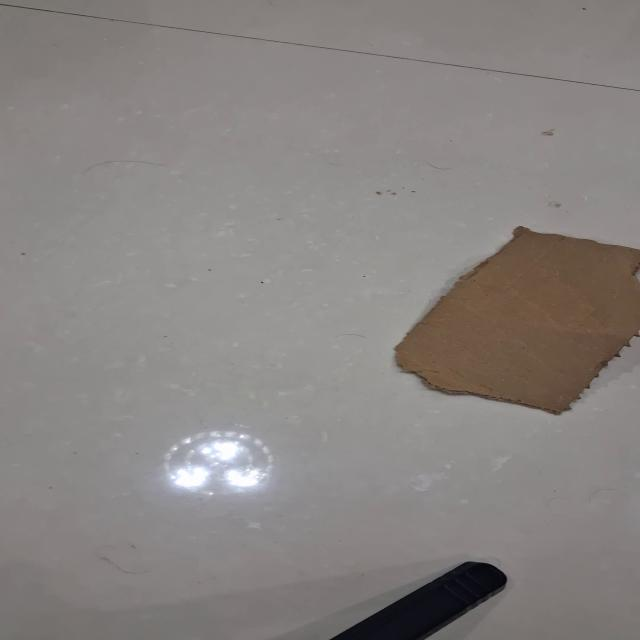paper: (2, 1, 638, 639), (392, 225, 639, 415)
